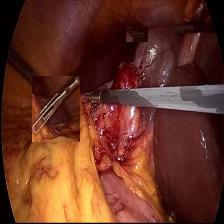Grasper: (32, 76, 80, 142), (84, 81, 100, 113), (126, 27, 148, 42)
